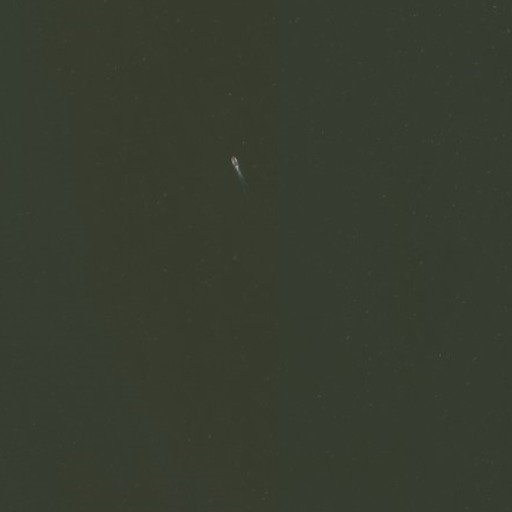ship: (228, 152, 244, 177)
